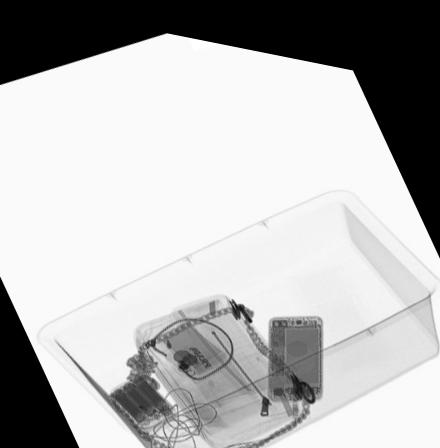Powerbank: (106, 368, 180, 427)
